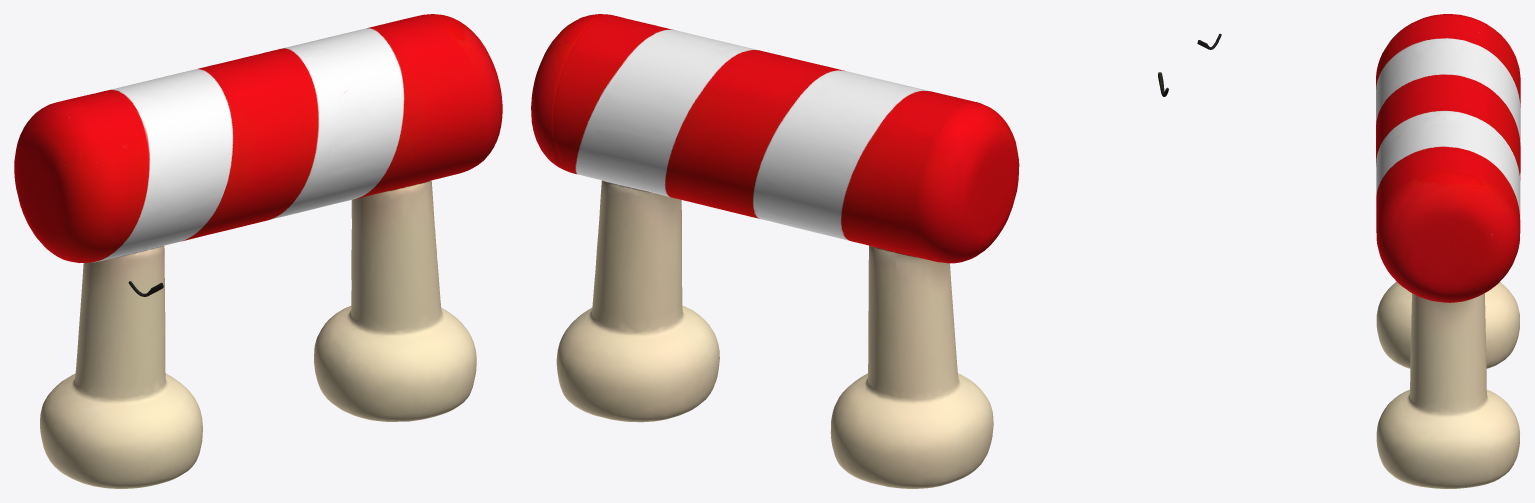
File: prop_barrier.glb
3 views of the same model, side by side, from view 1: azimuth 30°, elevation 25°; view 2: azimuth 150°, elevation 25°; view 3: azimuth 270°, elevation 25° (orthographic). The views are drawn at different scales.
Bounding box in the file's own units: 1.91 × 1.39 × 1.29.
1 material, 1 textured.
